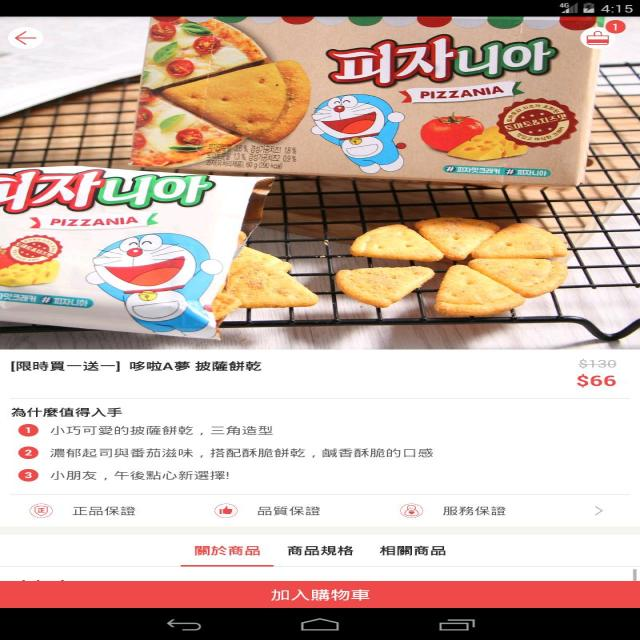button: (0, 580, 640, 609), (205, 494, 351, 529), (386, 496, 540, 528), (21, 494, 163, 528), (370, 536, 458, 567), (179, 537, 273, 566), (282, 538, 359, 567), (574, 21, 626, 50), (10, 25, 44, 51), (584, 497, 612, 522)
heading: (8, 355, 273, 374), (1, 401, 129, 420)
image: (1, 16, 640, 351)
text: (46, 445, 448, 461), (46, 422, 298, 439), (46, 468, 237, 484), (573, 354, 625, 393), (250, 502, 328, 518), (285, 542, 356, 559), (373, 544, 452, 559), (189, 542, 263, 558), (437, 503, 511, 518), (67, 504, 142, 518)
